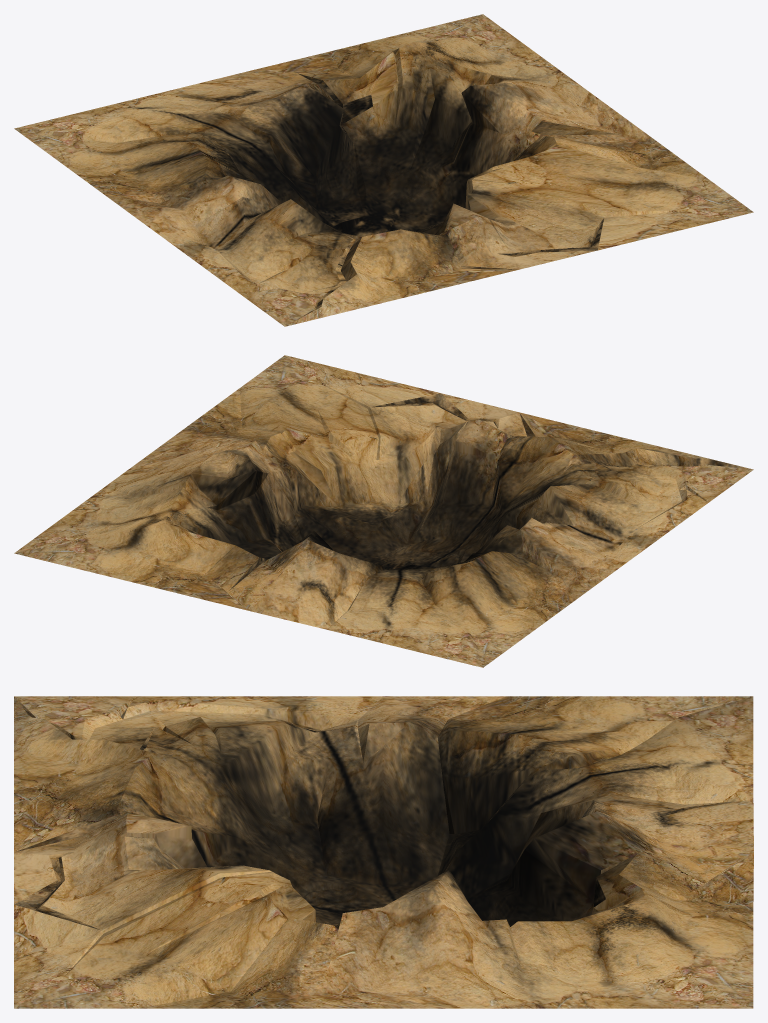
File: Crater_7.fbx
The picture shows the model from 3 angles, top to bottom: view 1: azimuth 30°, elevation 25°; view 2: azimuth 150°, elevation 25°; view 3: azimuth 270°, elevation 25°; orthographic projection. The views are drawn at different scales.
Parts seen in each view (by area): view 1: Crater_7; view 2: Crater_7; view 3: Crater_7.
Boxes of the visible parts, <box> form: Crater_7: <box>14,14,753,326</box>; Crater_7: <box>14,355,753,667</box>; Crater_7: <box>14,696,753,1008</box>.
Bounding box in the file's own units: 600 × 132 × 600.
